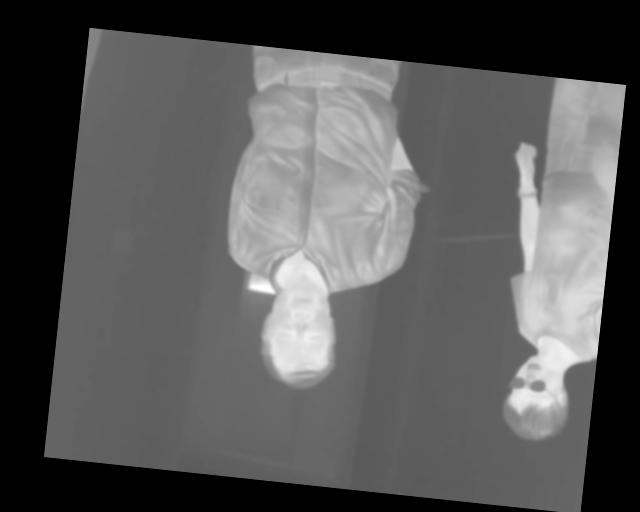face: (254, 275, 344, 393), (497, 350, 574, 445)
